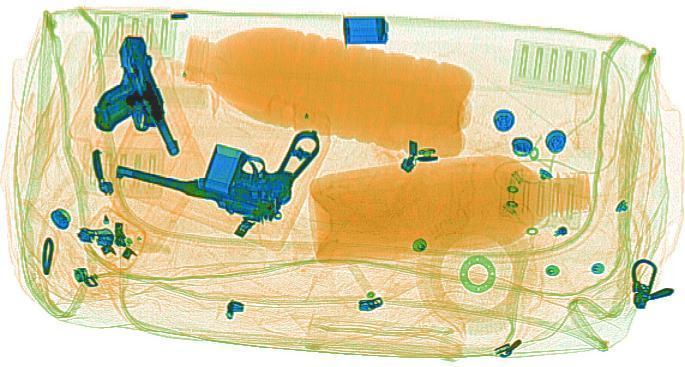Gun: (99, 97, 357, 224), (76, 33, 177, 157)
